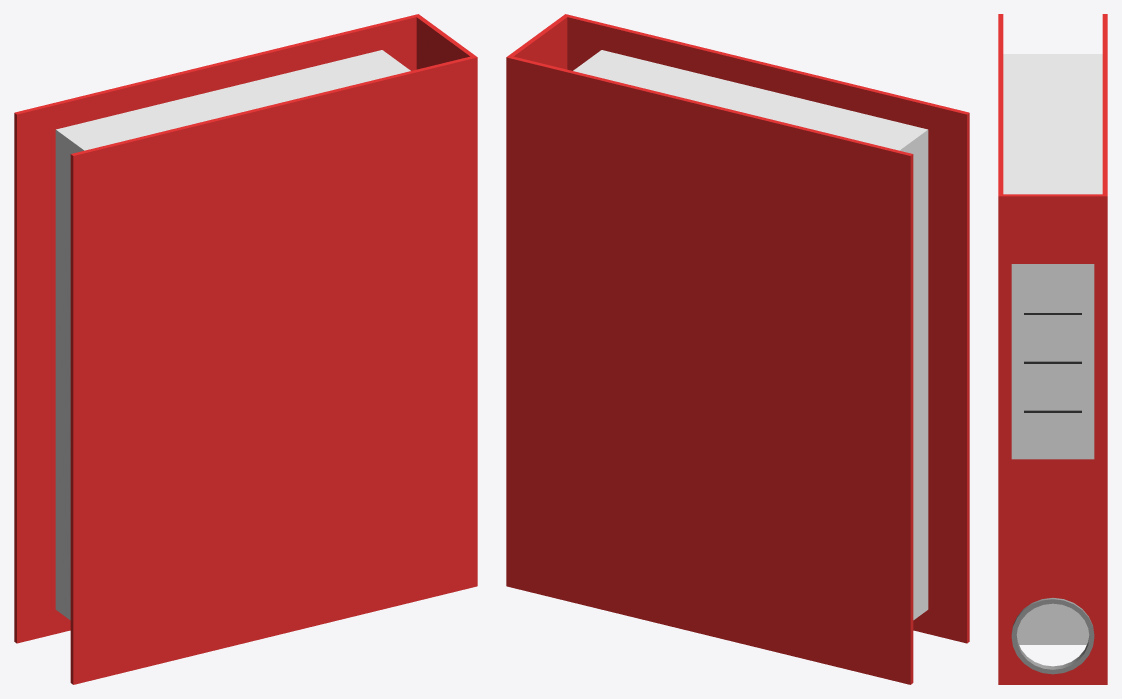
Rendered from map-rood.fbx.
3 views of the same model, side by side, from view 1: azimuth 30°, elevation 25°; view 2: azimuth 150°, elevation 25°; view 3: azimuth 270°, elevation 25° (orthographic). The views are drawn at different scales.
Visible parts, largest first — view 1: Model; view 2: Model; view 3: Model.
Boxes of the visible parts, x1,y1,x2,y2 form: Model: (14,14,477,684); Model: (506,14,969,684); Model: (998,14,1107,684).
Bounding box in the file's own units: 2620 × 3250 × 660.
